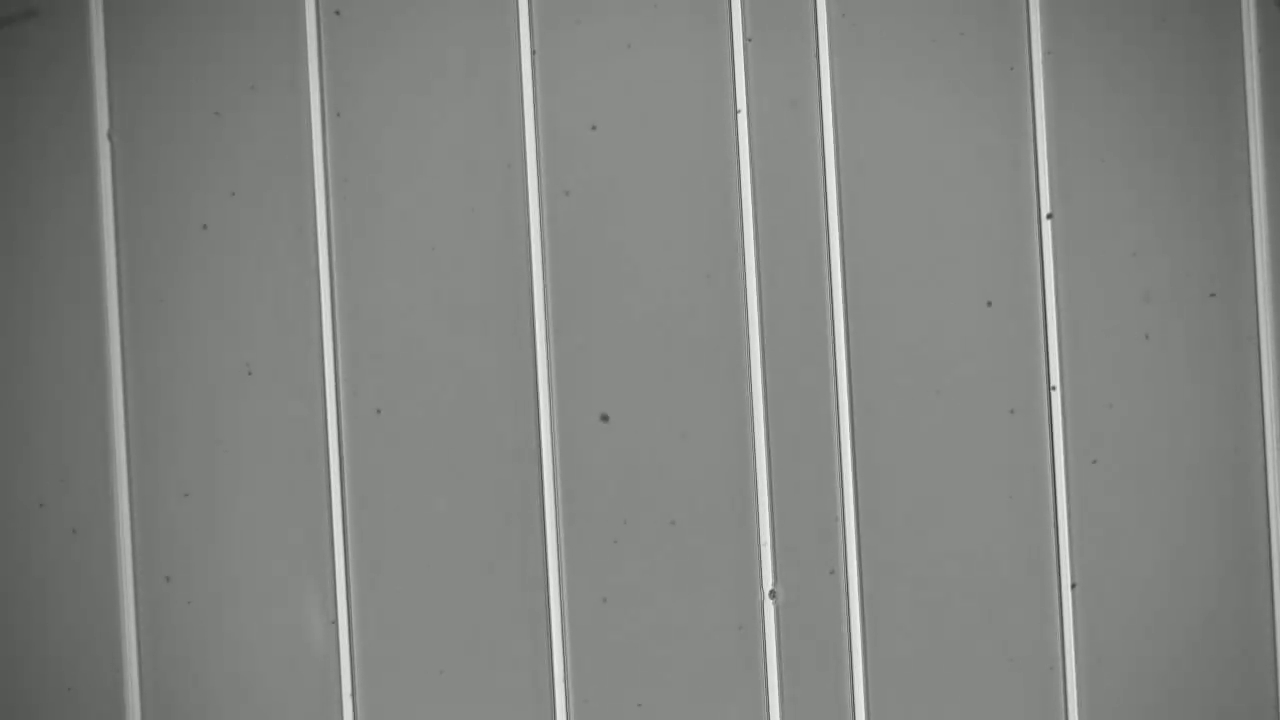stains_enbedded: (751, 577, 792, 608)
